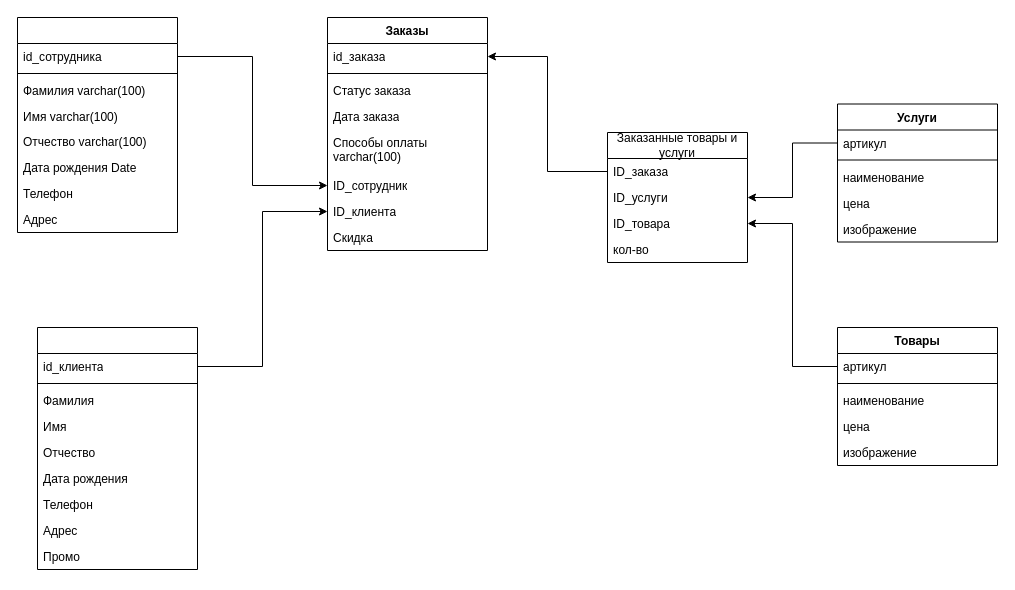
This 1015x590 diagram has some shape labels left out. Each missing label, with the box of its shape:
Клиенты: (36, 326, 198, 570)
Сотрудники: (16, 16, 178, 232)
